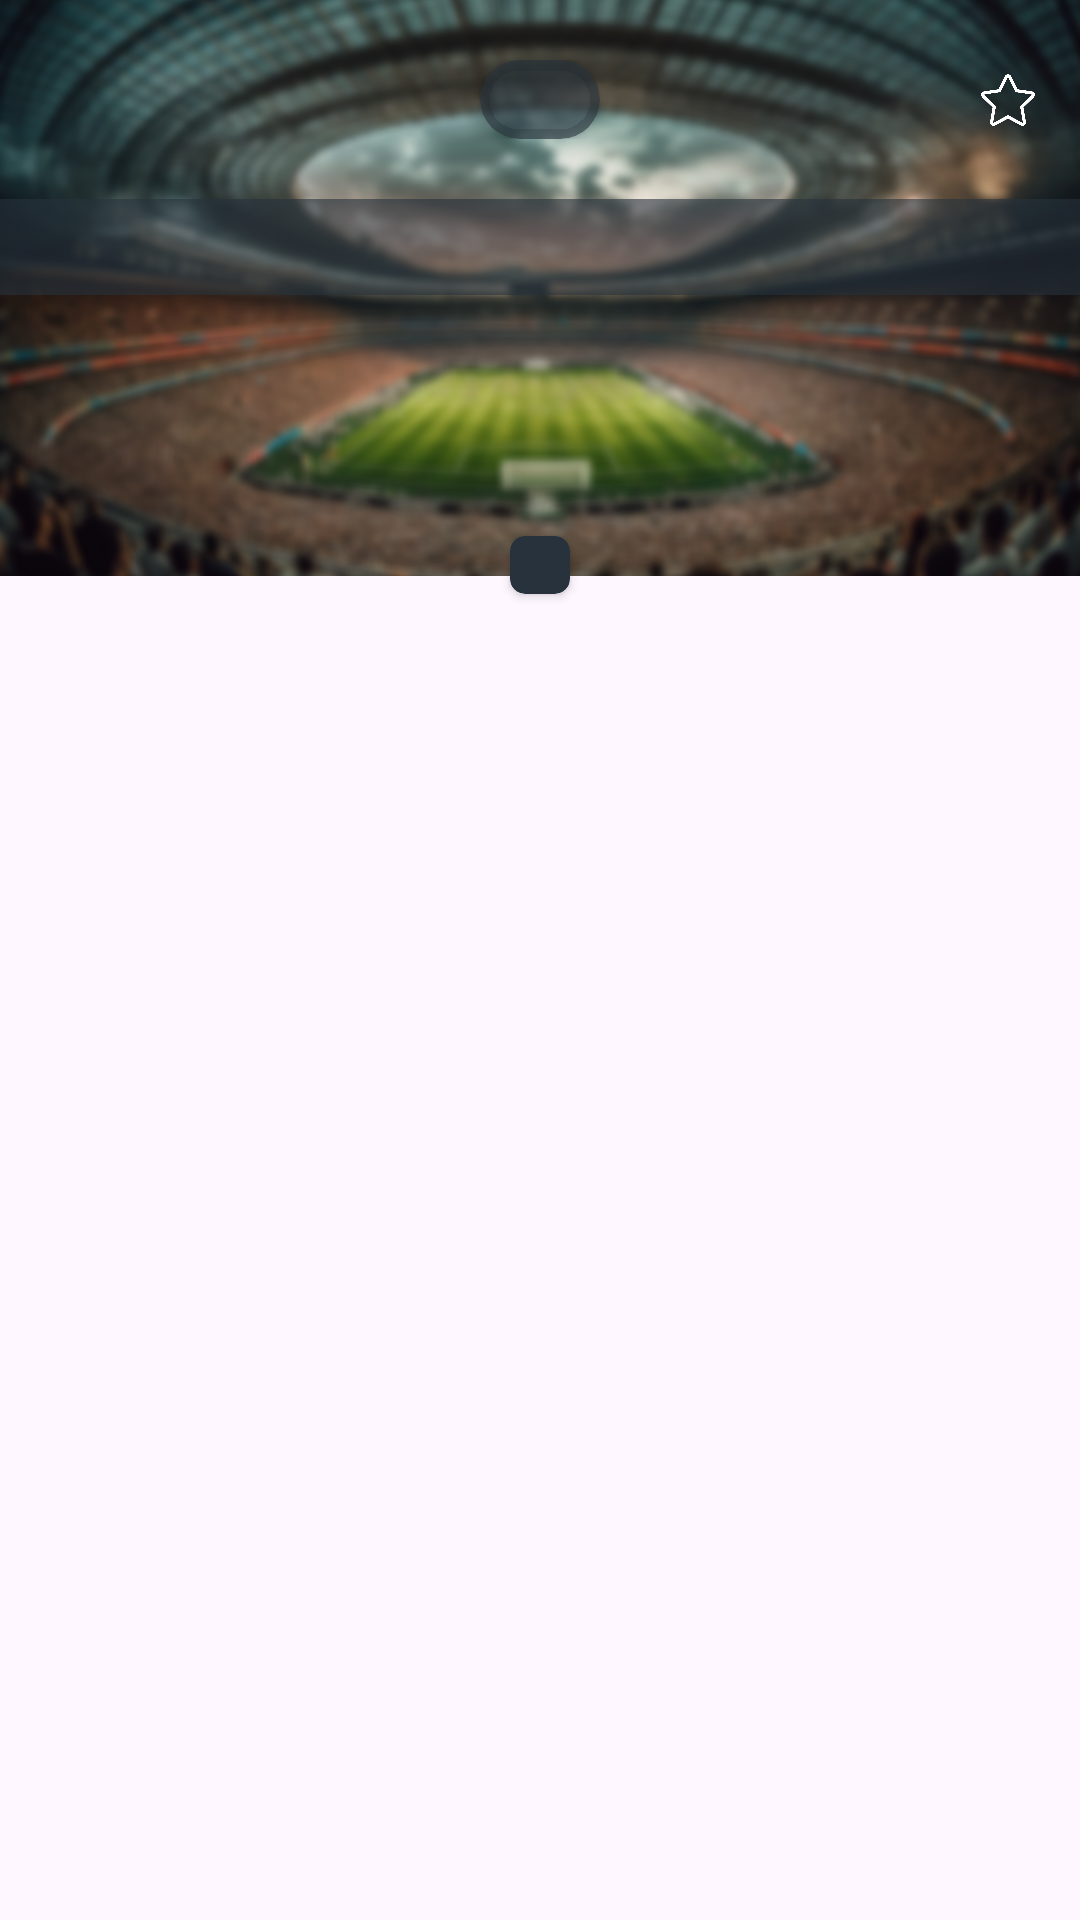

Named icons in this screenshot (1080px x 1920px) and their centers, point (x, y):
favorite off detail: point (1008, 100)
